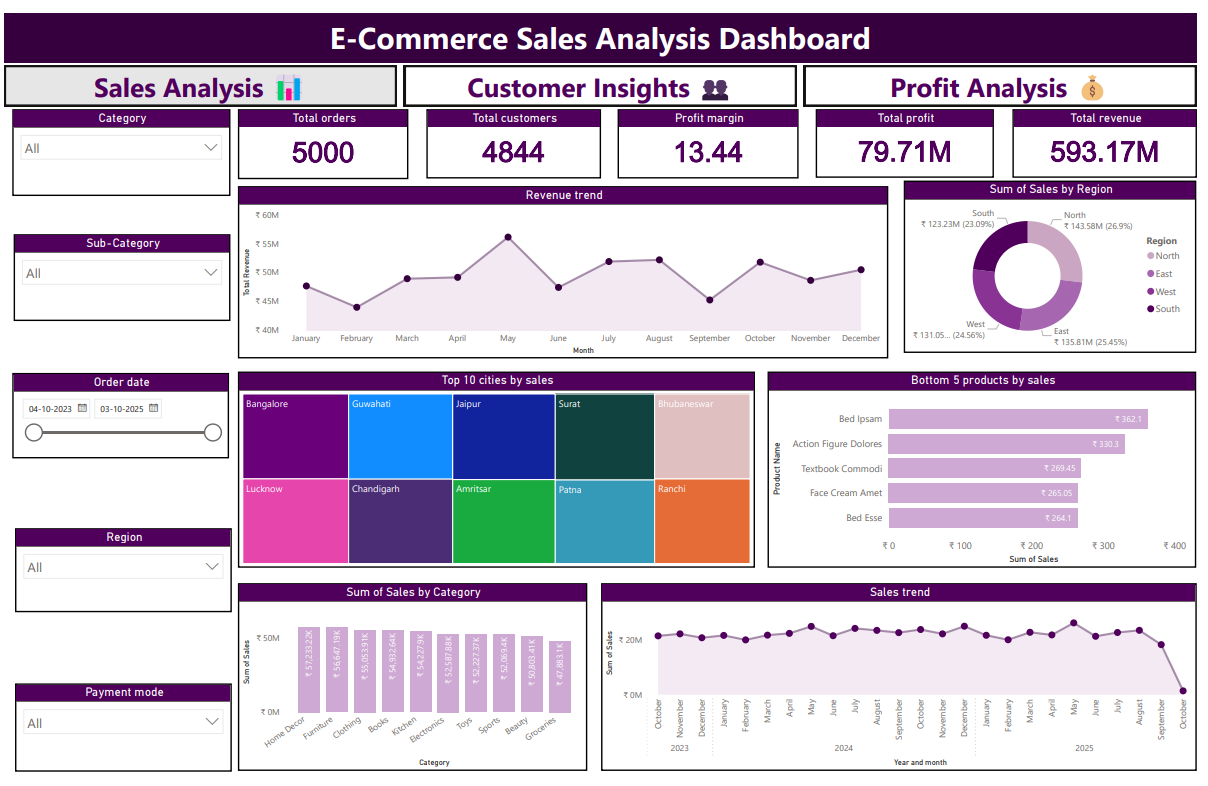

Layout of this report page (visuals, bound fields, positions):
{"tool":"powerbi","page":{"name":"Sales Analysis 📊","canvas":[1700,1100],"ordinal":0},"visuals":[{"type":"textbox","box":[0,0,1700,71.2],"z":0},{"type":"card","title":"Total revenue","fields":{"Values":["Ecommerce_Sales_Data_2024_2025.Total Revenue"]},"box":[1436.5,136.5,263.5,98.1],"z":1000},{"type":"card","title":"Total orders","fields":{"Values":["Count(Ecommerce_Sales_Data_2024_2025.Order ID)"]},"box":[333.3,137.5,243.1,100],"z":2000},{"type":"card","title":"Total customers","fields":{"Values":["Count(Ecommerce_Sales_Data_2024_2025.Customer Name)"]},"box":[601.4,137.5,248.6,98.6],"z":3000},{"type":"card","title":"Profit margin","fields":{"Values":["Ecommerce_Sales_Data_2024_2025.Profit Margin"]},"box":[873.6,137.5,258.3,98.6],"z":4000},{"type":"lineChart","title":"Revenue trend","fields":{"Y":["Ecommerce_Sales_Data_2024_2025.Total Revenue"],"Category":["Ecommerce_Sales_Data_2024_2025.Order Date.Variation.Date Hierarchy.Month"]},"box":[334.1,246.3,926.8,246.3],"z":5000},{"type":"card","title":"Total profit","fields":{"Values":["Sum(Ecommerce_Sales_Data_2024_2025.Profit)"]},"box":[1157.4,137,253.7,98.1],"z":6000},{"type":"slicer","title":"Sub-Category","fields":{"Values":["Ecommerce_Sales_Data_2024_2025.Sub-Category"]},"box":[13,315.2,308.7,123.9],"z":7000},{"type":"slicer","title":"Category","fields":{"Values":["Ecommerce_Sales_Data_2024_2025.Category"]},"box":[10.9,137,310.9,123.9],"z":8000},{"type":"slicer","title":"Order date","fields":{"Values":["Ecommerce_Sales_Data_2024_2025.Order Date"]},"box":[10.9,513,308.7,121.7],"z":9000},{"type":"slicer","title":"Payment mode","fields":{"Values":["Ecommerce_Sales_Data_2024_2025.Payment Mode"]},"box":[15.2,956.5,308.7,126.1],"z":10000},{"type":"slicer","title":"Region","fields":{"Values":["Ecommerce_Sales_Data_2024_2025.Region"]},"box":[15.2,734.8,308.7,119.6],"z":11000},{"type":"treemap","title":"Top 10 cities by sales","fields":{"Values":["Sum(Ecommerce_Sales_Data_2024_2025.Sales)"],"Group":["Ecommerce_Sales_Data_2024_2025.City"]},"box":[334.1,512.2,736.6,280.5],"z":12000},{"type":"columnChart","fields":{"Category":["Ecommerce_Sales_Data_2024_2025.Category"],"Y":["Sum(Ecommerce_Sales_Data_2024_2025.Sales)"]},"box":[334.1,814.6,497.6,268.3],"z":13000},{"type":"barChart","title":"Bottom 5 products by sales","fields":{"Category":["Ecommerce_Sales_Data_2024_2025.Product Name"],"Y":["Sum(Ecommerce_Sales_Data_2024_2025.Sales)"]},"box":[1088.6,511.4,611.4,279.5],"z":14000},{"type":"donutChart","fields":{"Category":["Ecommerce_Sales_Data_2024_2025.Region"],"Y":["Sum(Ecommerce_Sales_Data_2024_2025.Sales)"]},"box":[1282.9,239,417.1,246.3],"z":15000},{"type":"lineChart","title":"Sales trend","fields":{"Category":["Ecommerce_Sales_Data_2024_2025.Order Date.Variation.Date Hierarchy.Year","Ecommerce_Sales_Data_2024_2025.Order Date.Variation.Date Hierarchy.Month"],"Y":["Sum(Ecommerce_Sales_Data_2024_2025.Sales)"]},"box":[851.2,814.6,848.8,268.3],"z":16000},{"type":"pageNavigator","box":[0,74.2,1700,59.1],"z":17000}]}

Visuals, with their boxes in screenshot pixels (x1, y1, x2, y2), scaled from the page's 1700x1100 canvas onto the 1208x786 screenshot:
textbox: pyautogui.locateOnScreen(0, 0, 1207, 51)
"Total revenue" card: pyautogui.locateOnScreen(1021, 98, 1207, 168)
"Total orders" card: pyautogui.locateOnScreen(237, 98, 410, 170)
"Total customers" card: pyautogui.locateOnScreen(427, 98, 604, 169)
"Profit margin" card: pyautogui.locateOnScreen(621, 98, 804, 169)
"Revenue trend" lineChart: pyautogui.locateOnScreen(237, 176, 896, 352)
"Total profit" card: pyautogui.locateOnScreen(822, 98, 1003, 168)
"Sub-Category" slicer: pyautogui.locateOnScreen(9, 225, 229, 314)
"Category" slicer: pyautogui.locateOnScreen(8, 98, 229, 186)
"Order date" slicer: pyautogui.locateOnScreen(8, 367, 227, 454)
"Payment mode" slicer: pyautogui.locateOnScreen(11, 683, 230, 774)
"Region" slicer: pyautogui.locateOnScreen(11, 525, 230, 611)
"Top 10 cities by sales" treemap: pyautogui.locateOnScreen(237, 366, 761, 566)
columnChart - Ecommerce_Sales_Data_2024_2025.Category x Sum(Ecommerce_Sales_Data_2024_2025.Sales): pyautogui.locateOnScreen(237, 582, 591, 774)
"Bottom 5 products by sales" barChart: pyautogui.locateOnScreen(774, 365, 1207, 565)
donutChart - Ecommerce_Sales_Data_2024_2025.Region x Sum(Ecommerce_Sales_Data_2024_2025.Sales): pyautogui.locateOnScreen(912, 171, 1207, 347)
"Sales trend" lineChart: pyautogui.locateOnScreen(605, 582, 1207, 774)
pageNavigator: pyautogui.locateOnScreen(0, 53, 1207, 95)
